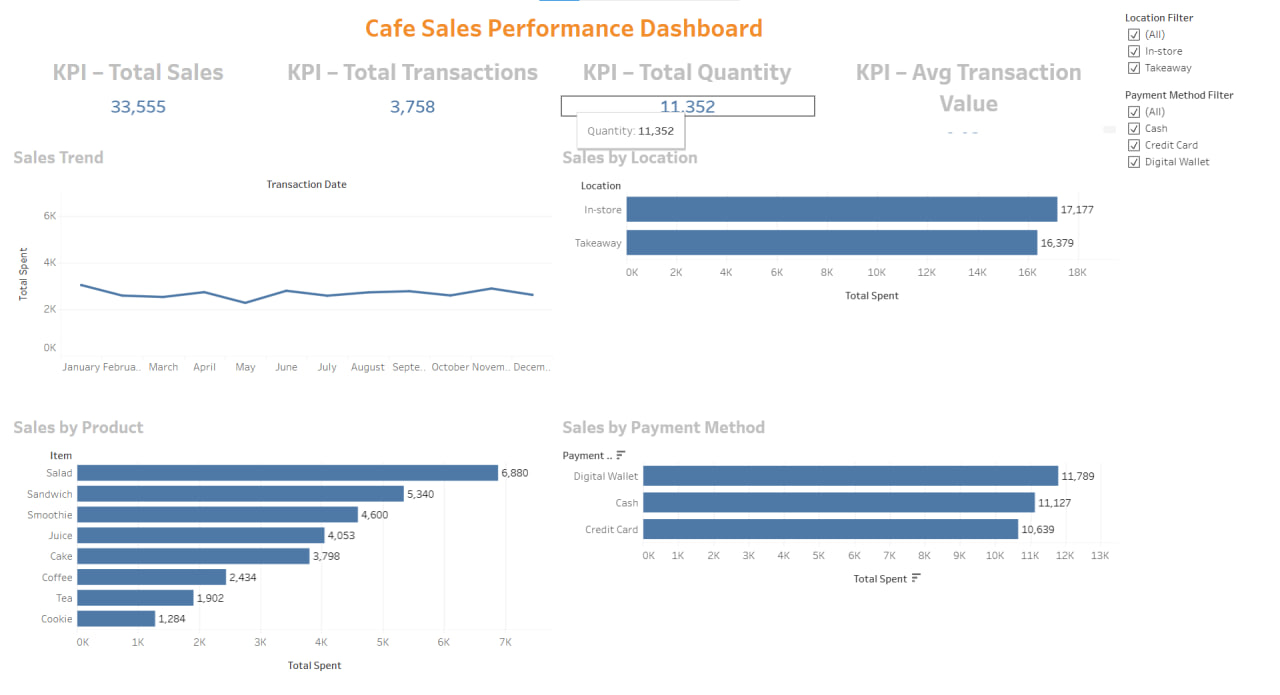

This screenshot's page, from the dashboard's own definition file:
{"tool":"tableau","page":{"name":"Dashboard 1","canvas":[1000,1000],"units":"permille","ordinal":0},"visuals":[{"type":"title","box":[4.8,9.3,880.5,67.4]},{"type":"filter","title":"Sheet 6","param":"[federated.1dskqjf1y84s2d104faao1twyujn].[Location Set]","box":[885.3,9.3,109.8,122]},{"type":"worksheet","title":"Sheet 8","mark":"Automatic","box":[4.8,76.7,207.6,127.6]},{"type":"worksheet","title":"Sheet 9","mark":"Automatic","box":[212.4,76.7,226.4,127.6]},{"type":"worksheet","title":"Sheet 10","mark":"Automatic","box":[438.8,76.7,207.1,127.6]},{"type":"worksheet","title":"Sheet 11","mark":"Automatic","box":[646,76.7,239.4,127.6]},{"type":"filter","title":"Sheet 5","param":"[federated.1dskqjf1y84s2d104faao1twyujn].[Payment Method Filter]","box":[885.3,131.2,109.8,148.7]},{"type":"worksheet","title":"Sheet 6","mark":"Automatic","rows":["Total_Spent"],"cols":["Transaction_Date"],"box":[4.8,204.2,434,383.4]},{"type":"worksheet","title":"Sheet 4","mark":"Automatic","rows":["Location"],"cols":["Total_Spent"],"box":[438.8,204.2,446.5,383.4]},{"type":"worksheet","title":"Sheet 2","mark":"Automatic","rows":["Item"],"cols":["Total_Spent"],"box":[4.8,587.7,434,403.1]},{"type":"worksheet","title":"Sheet 5","mark":"Automatic","rows":["Payment_Method"],"cols":["Total_Spent"],"box":[438.8,587.7,446.5,403.1]}]}

Visuals, with their boxes on the dashboard's canvas, which has no fixed pixel size, in thousandths of its width and height (x1, y1, x2, y2). These are canvas units, not pixel positions in the 1280x695 screenshot, which may show the page scaled, cropped or inside an application window:
title: (5,9,885,77)
"Sheet 6" filter: (885,9,995,131)
"Sheet 8" worksheet: (5,77,212,204)
"Sheet 9" worksheet: (212,77,439,204)
"Sheet 10" worksheet: (439,77,646,204)
"Sheet 11" worksheet: (646,77,885,204)
"Sheet 5" filter: (885,131,995,280)
"Sheet 6" worksheet: (5,204,439,588)
"Sheet 4" worksheet: (439,204,885,588)
"Sheet 2" worksheet: (5,588,439,991)
"Sheet 5" worksheet: (439,588,885,991)
